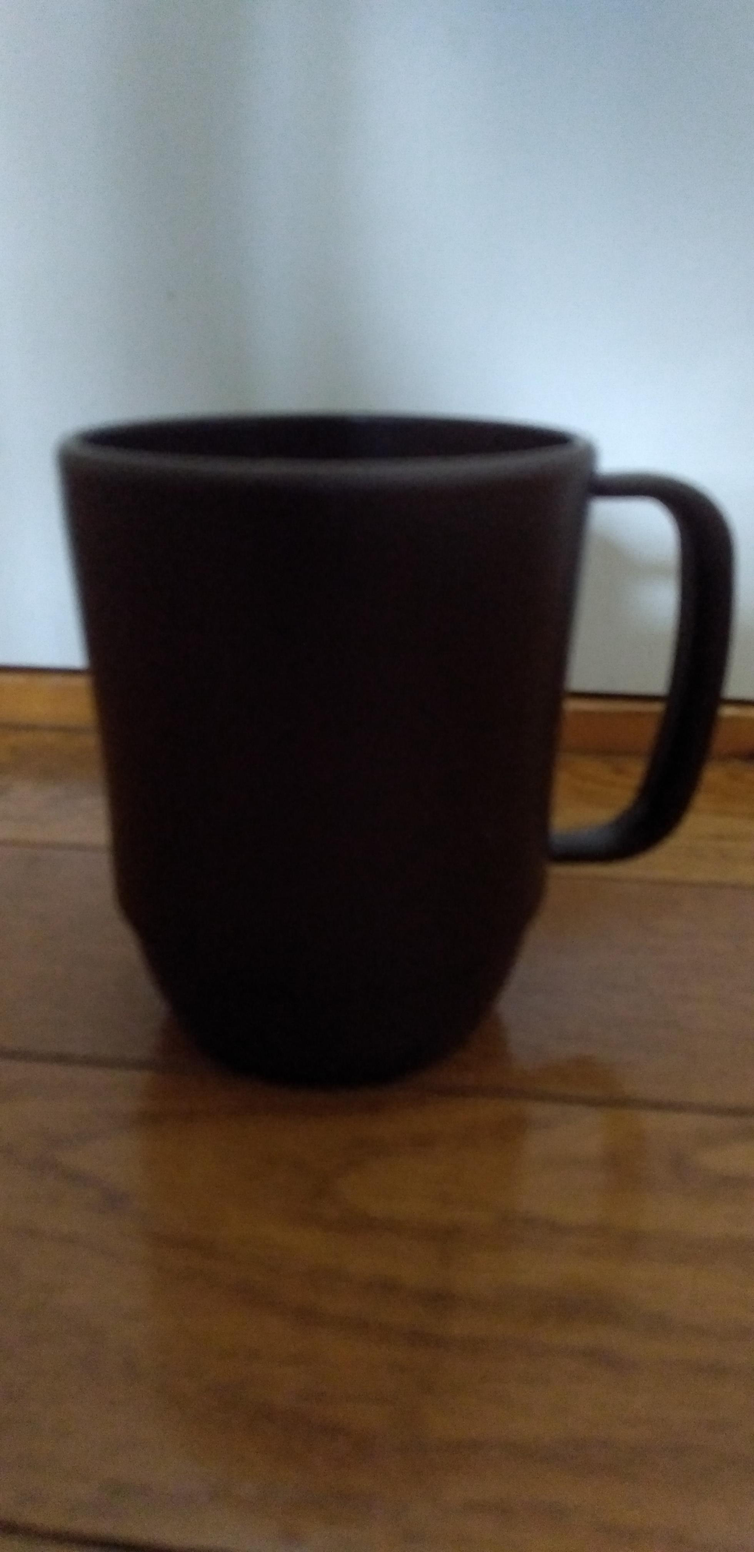mug-real100-3d100: (58, 414, 733, 1087)
